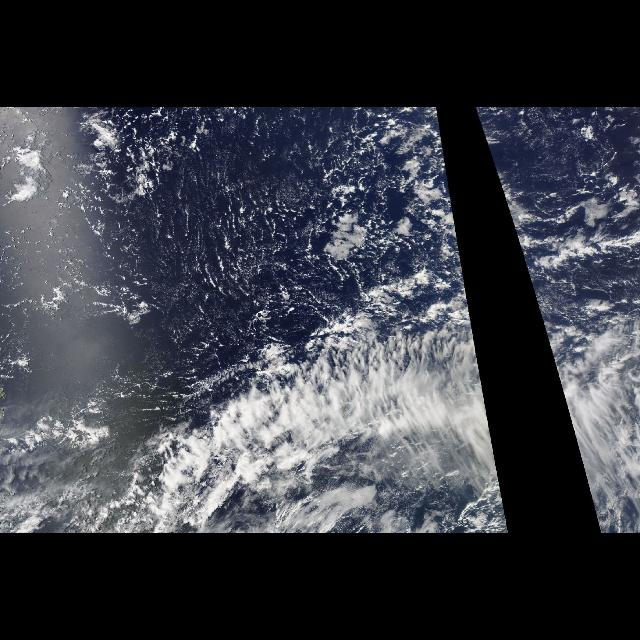Gravel: (4, 107, 474, 335), (475, 107, 637, 335)
